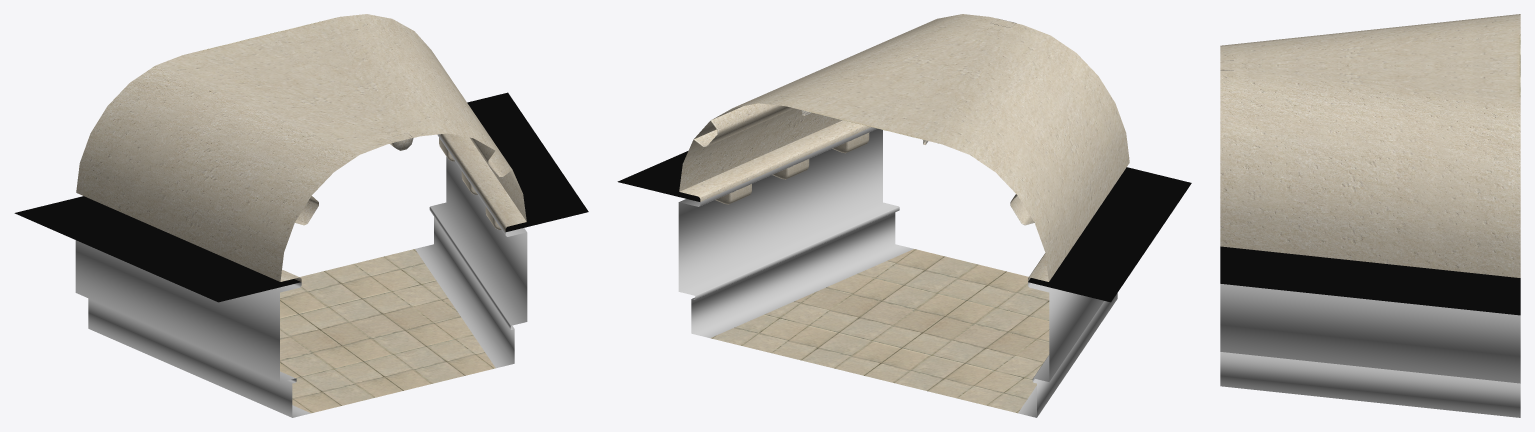
Rendered from dungeon_Tile_07_Change.fbx.
3 renders of one model, left to right at view 1: azimuth 30°, elevation 25°; view 2: azimuth 150°, elevation 25°; view 3: azimuth 270°, elevation 25°, orthographic. The views are drawn at different scales.
Parts seen in each view (by area): view 1: dungeon_Tile_07_Wall_Change, dungeon_Tile_07_Roof_Change; view 2: dungeon_Tile_07_Wall_Change, dungeon_Tile_07_Roof_Change; view 3: dungeon_Tile_07_Roof_Change, dungeon_Tile_07_Wall_Change.
Part boxes in pixels (bbox=[...]): dungeon_Tile_07_Wall_Change: bbox=[14, 92, 588, 417]; dungeon_Tile_07_Roof_Change: bbox=[76, 14, 526, 281]; dungeon_Tile_07_Wall_Change: bbox=[617, 127, 1191, 417]; dungeon_Tile_07_Roof_Change: bbox=[679, 14, 1129, 281]; dungeon_Tile_07_Roof_Change: bbox=[1220, 14, 1520, 277]; dungeon_Tile_07_Wall_Change: bbox=[1220, 246, 1520, 417].
Size of the model in its own units: 120 by 58.18 by 60.
